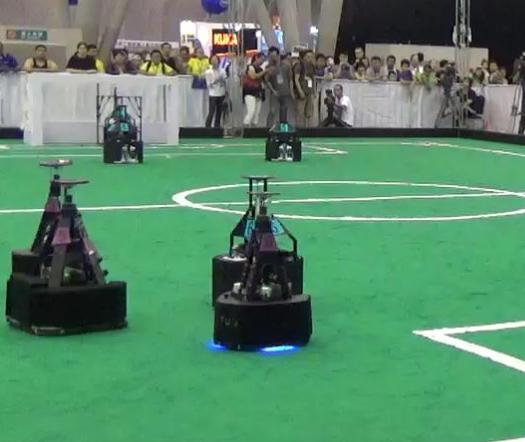robot: (1, 153, 136, 337), (196, 165, 321, 353), (93, 82, 151, 169), (255, 82, 312, 164)
